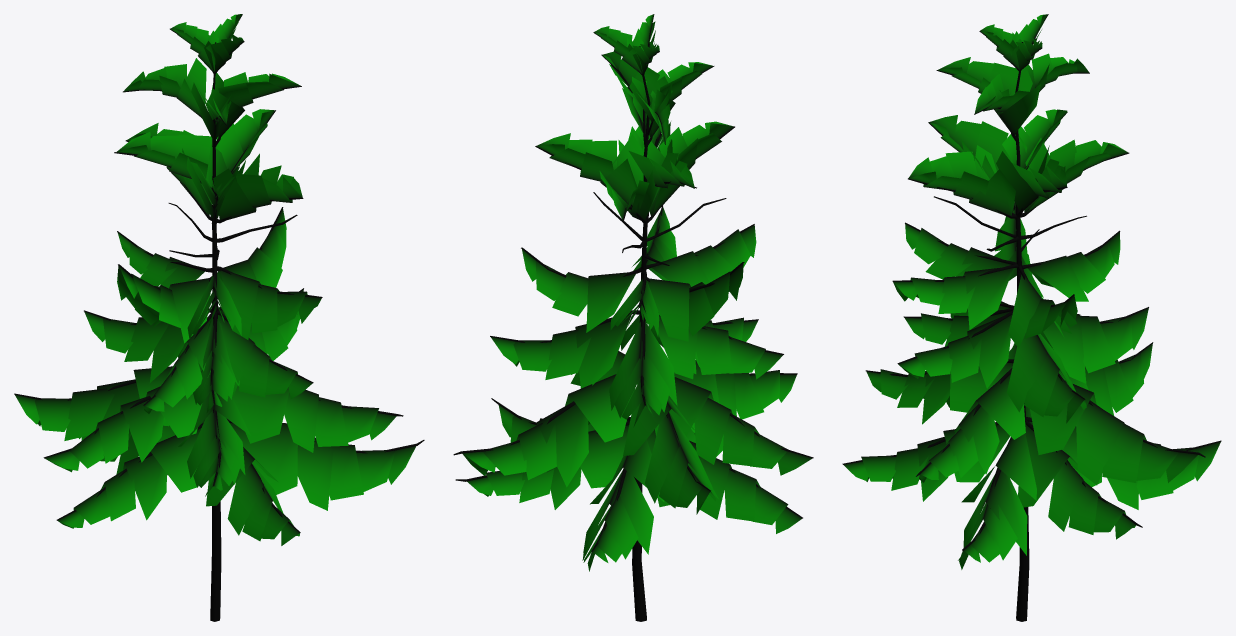
Rendered from IL3DN_Tree_Pine_01_OneMesh.FBX.
3 views of the same model, side by side, from view 1: azimuth 30°, elevation 25°; view 2: azimuth 150°, elevation 25°; view 3: azimuth 270°, elevation 25° (orthographic).
Visible parts, largest first — view 1: IL3DN_Tree_Pine_01_LOD0; view 2: IL3DN_Tree_Pine_01_LOD0; view 3: IL3DN_Tree_Pine_01_LOD0.
Boxes of the visible parts, left/top/right/bottom form: IL3DN_Tree_Pine_01_LOD0: left=14, top=14, right=424, bottom=621; IL3DN_Tree_Pine_01_LOD0: left=453, top=14, right=813, bottom=621; IL3DN_Tree_Pine_01_LOD0: left=842, top=14, right=1221, bottom=621.
Size of what is drawn, in the model's own units: 122 by 196 by 113.
